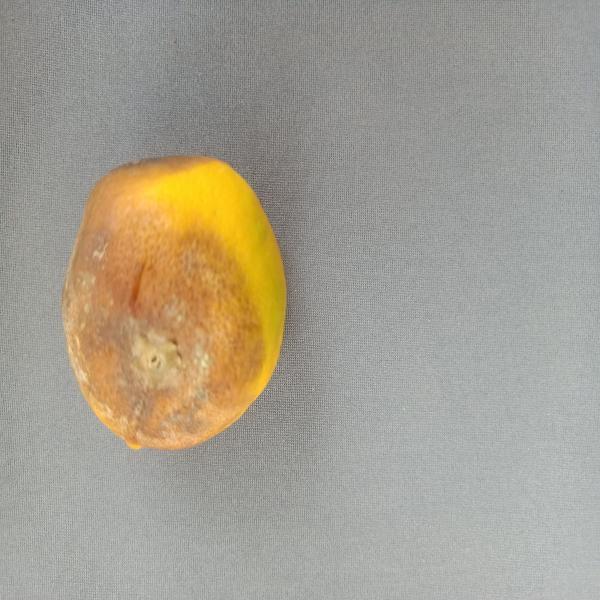Scab: (42, 135, 307, 457)
